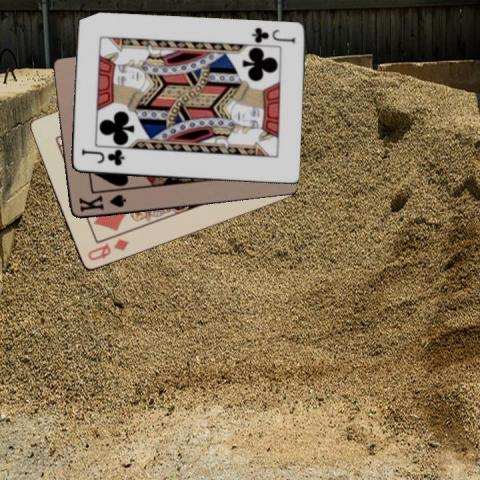Jc: (79, 148, 126, 168), (249, 25, 296, 45)
Ks: (76, 191, 128, 214)
Qd: (84, 236, 130, 263)
